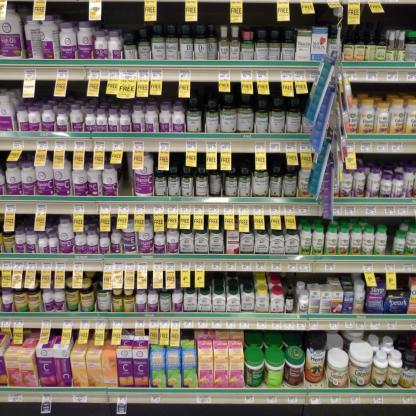Void: (117, 160, 133, 192)
